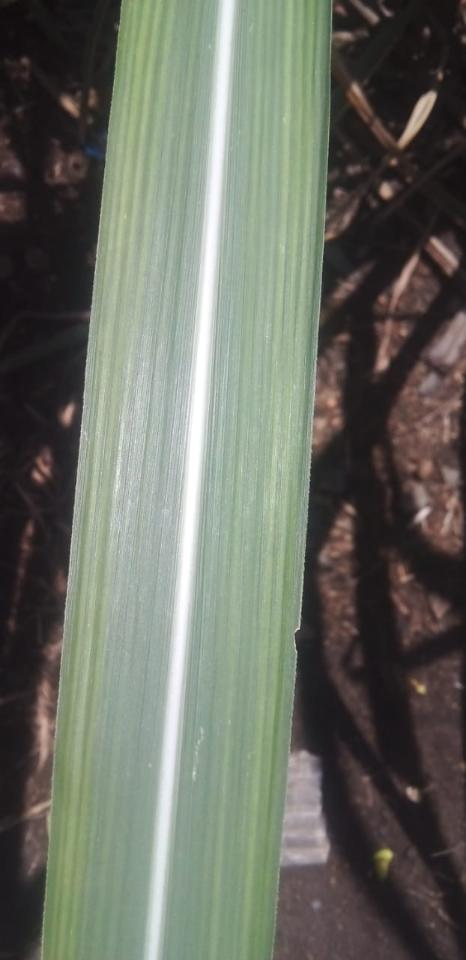Healthy: (40, 0, 333, 959)
